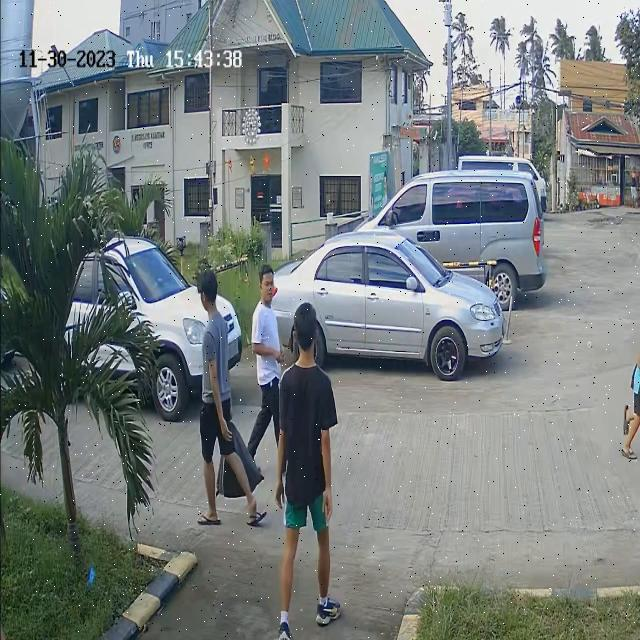human: (192, 268, 264, 538), (273, 300, 326, 640), (249, 260, 281, 465), (620, 349, 640, 468)
trash: (214, 418, 264, 505)
